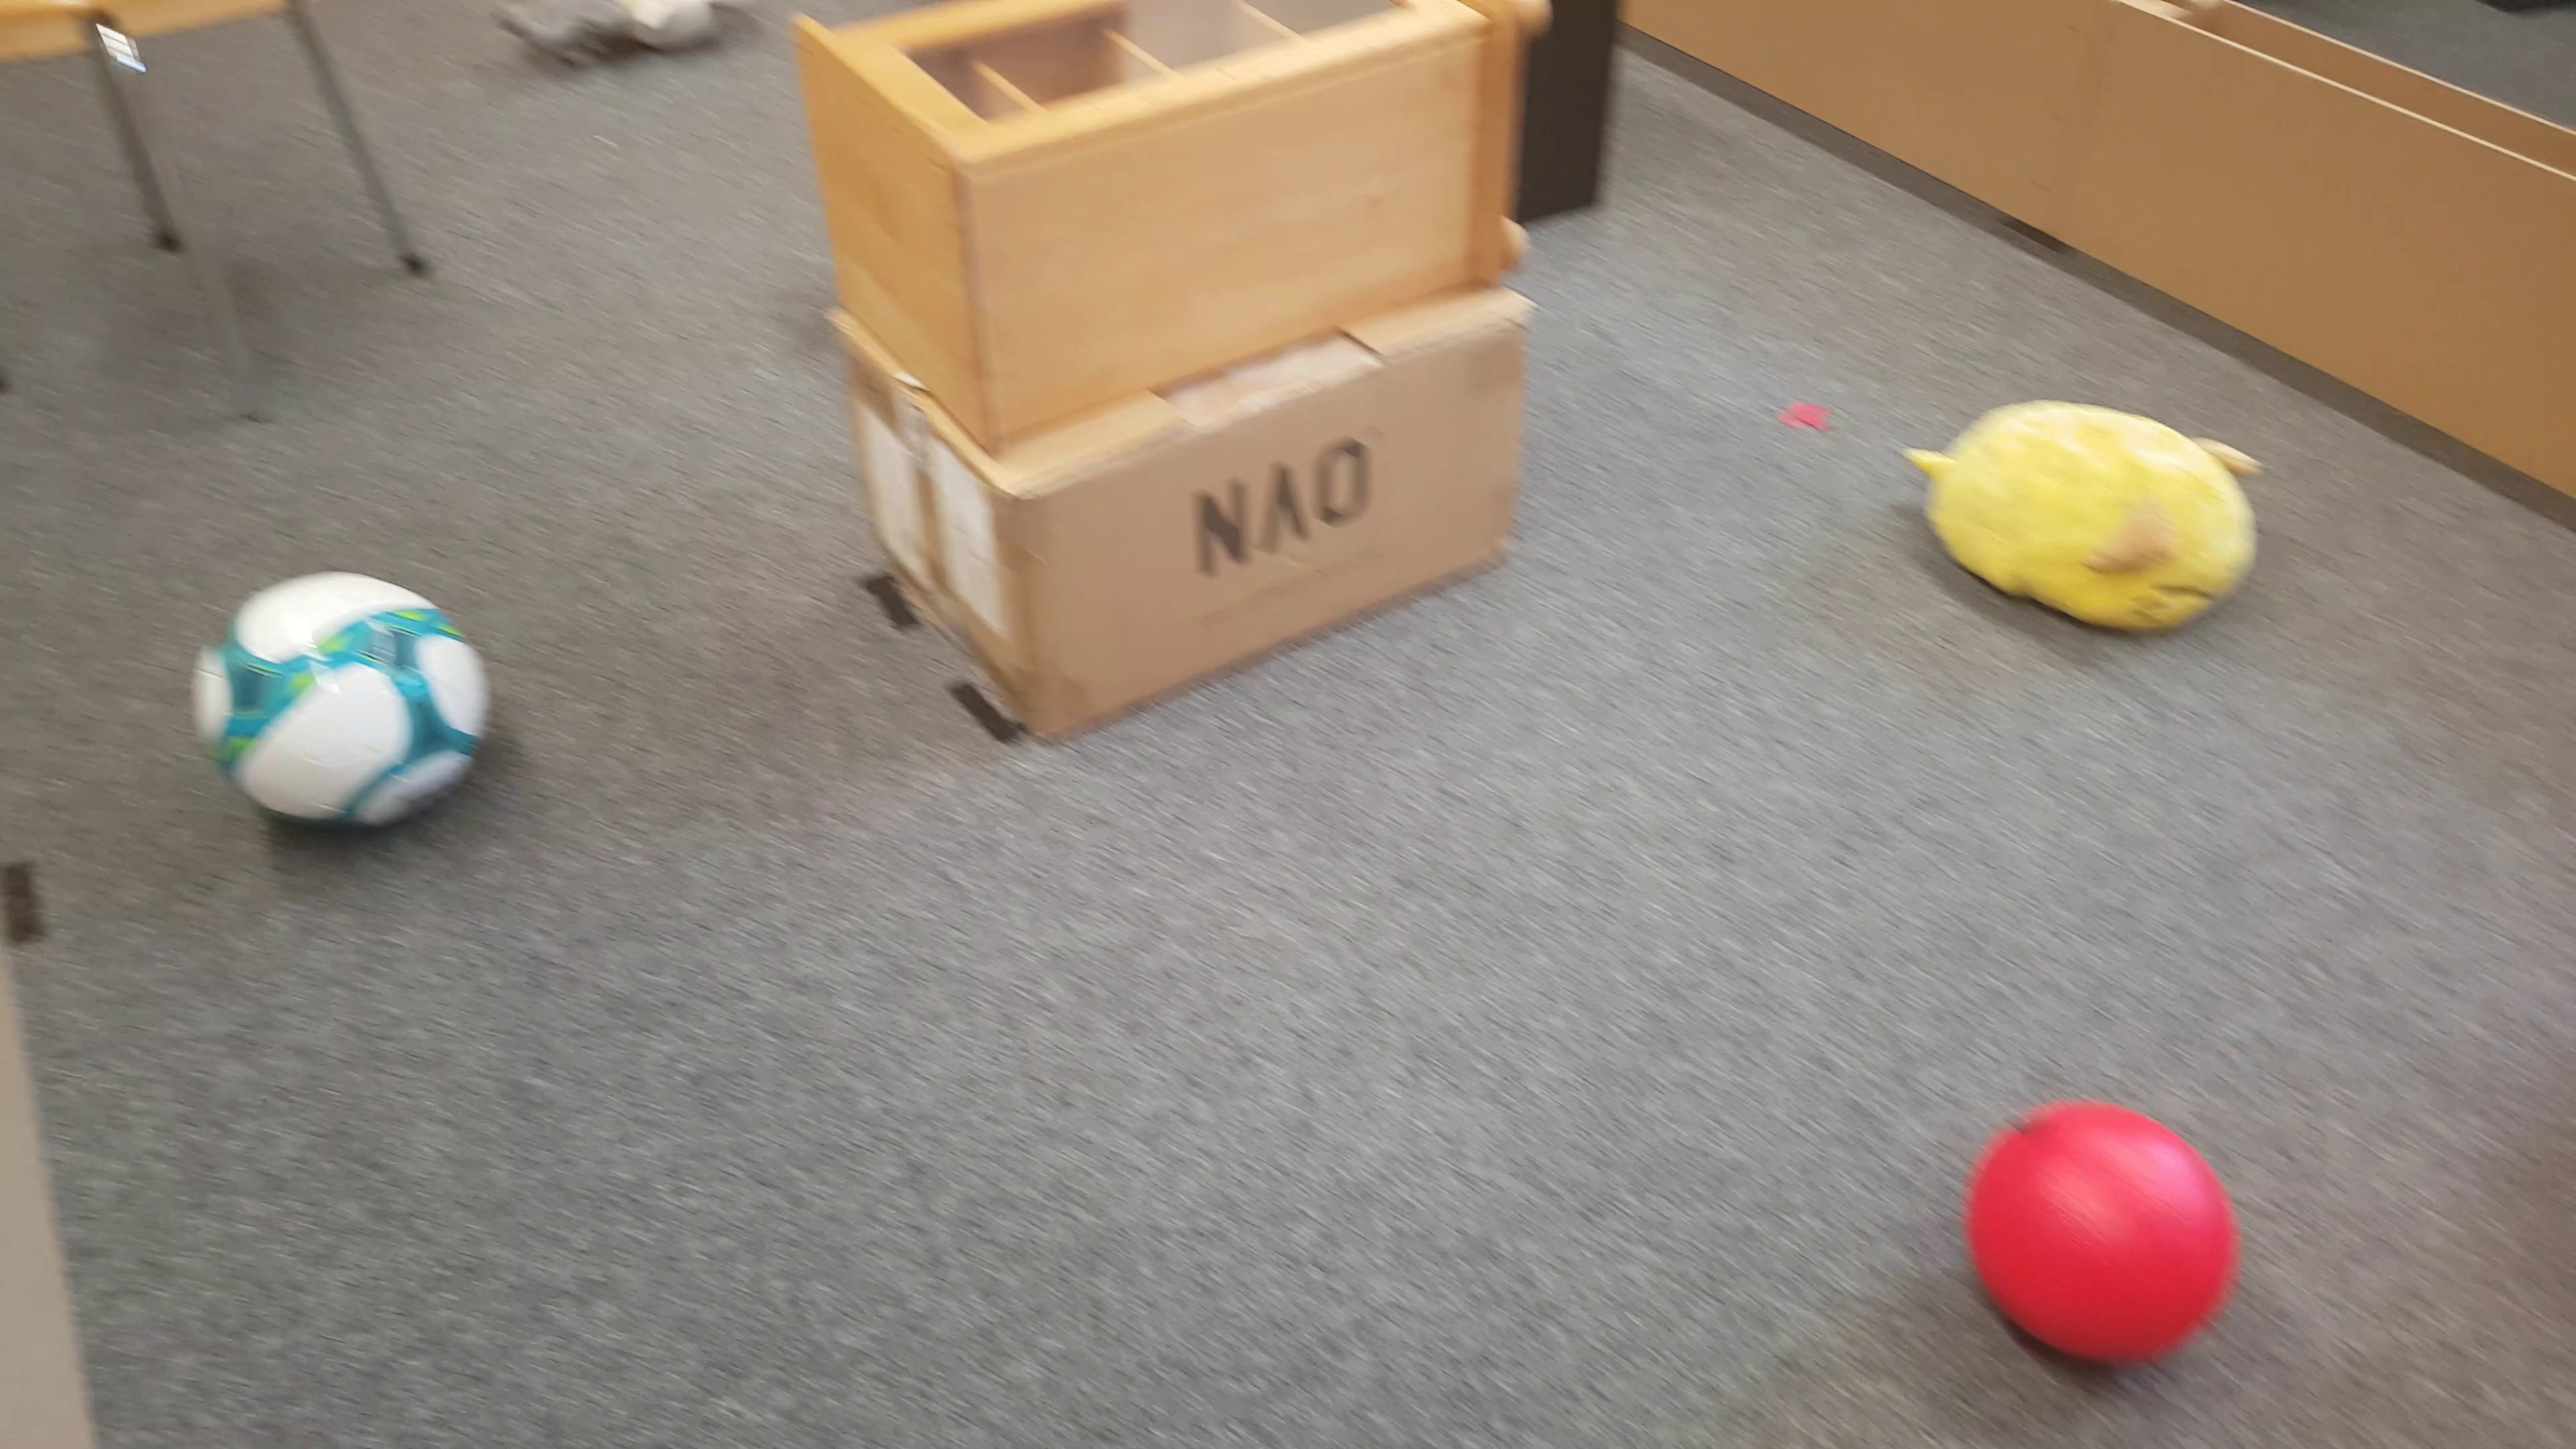grasp: (1905, 398, 2256, 637), (499, 4, 764, 74)
kick: (182, 577, 492, 830), (1966, 1100, 2233, 1369)
push: (1557, 5, 1622, 219)
